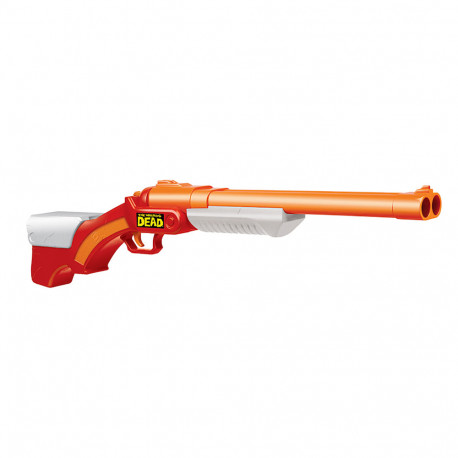Arma Falsa: (23, 177, 446, 292)
